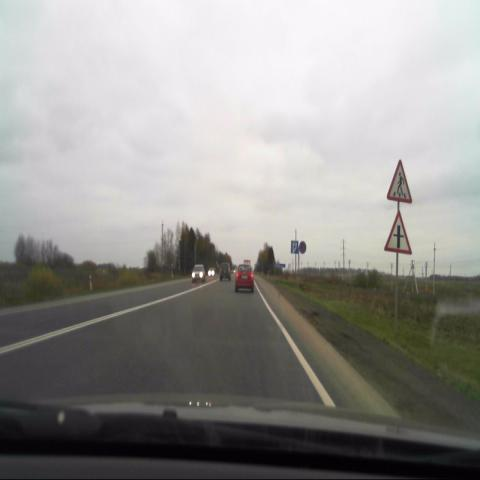2_3: (383, 210, 414, 258)
